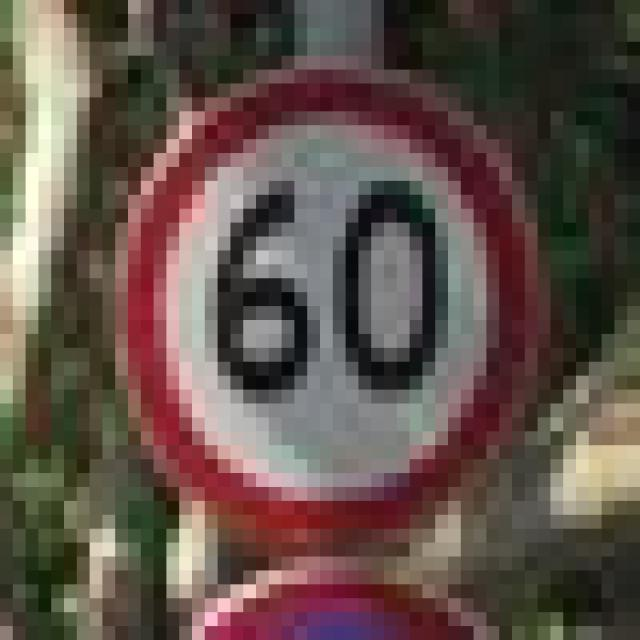speed_limit_40: (102, 55, 525, 542)
